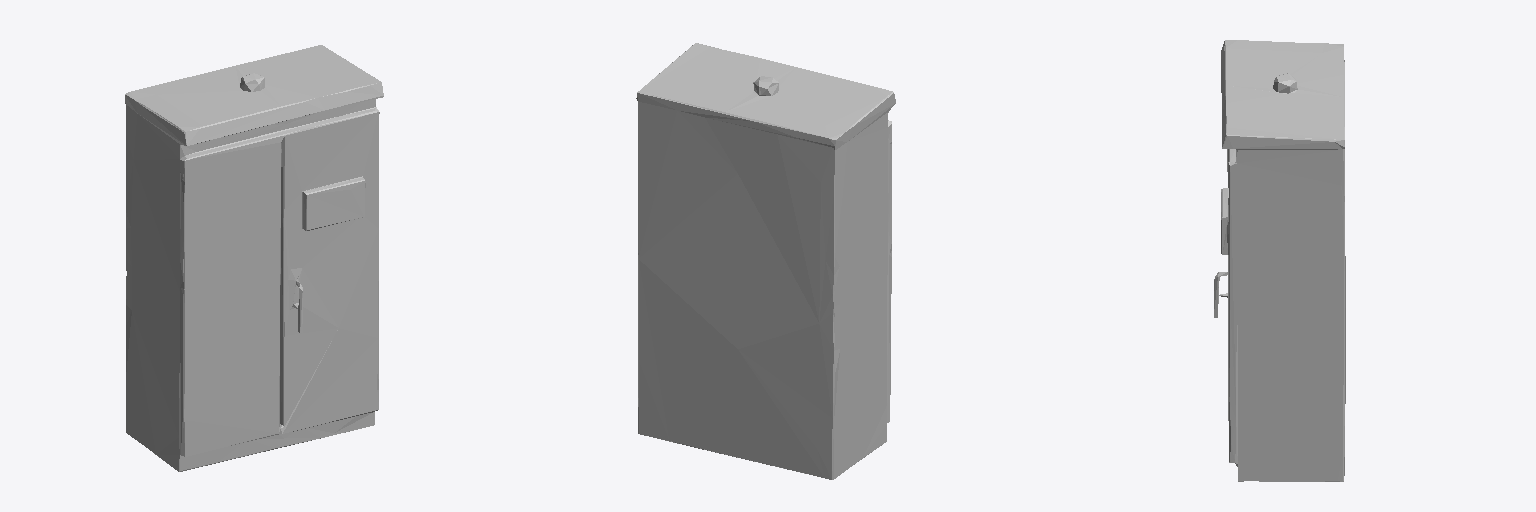
The model's file is traffic_box.obj.
3 views of the same model, side by side, from view 1: azimuth 30°, elevation 25°; view 2: azimuth 150°, elevation 25°; view 3: azimuth 270°, elevation 25° (orthographic).
Visible parts, largest first — view 1: S_Traffic_Signal_Control_Cabinet_uh4ffdmga_lod3_Var1_LOD2; view 2: S_Traffic_Signal_Control_Cabinet_uh4ffdmga_lod3_Var1_LOD2; view 3: S_Traffic_Signal_Control_Cabinet_uh4ffdmga_lod3_Var1_LOD2.
Boxes of the visible parts, <box> form: S_Traffic_Signal_Control_Cabinet_uh4ffdmga_lod3_Var1_LOD2: <box>125,45,383,471</box>; S_Traffic_Signal_Control_Cabinet_uh4ffdmga_lod3_Var1_LOD2: <box>636,43,895,479</box>; S_Traffic_Signal_Control_Cabinet_uh4ffdmga_lod3_Var1_LOD2: <box>1214,40,1345,481</box>.
Bounding box in the file's own units: 0.9332 × 1.6 × 0.5389.